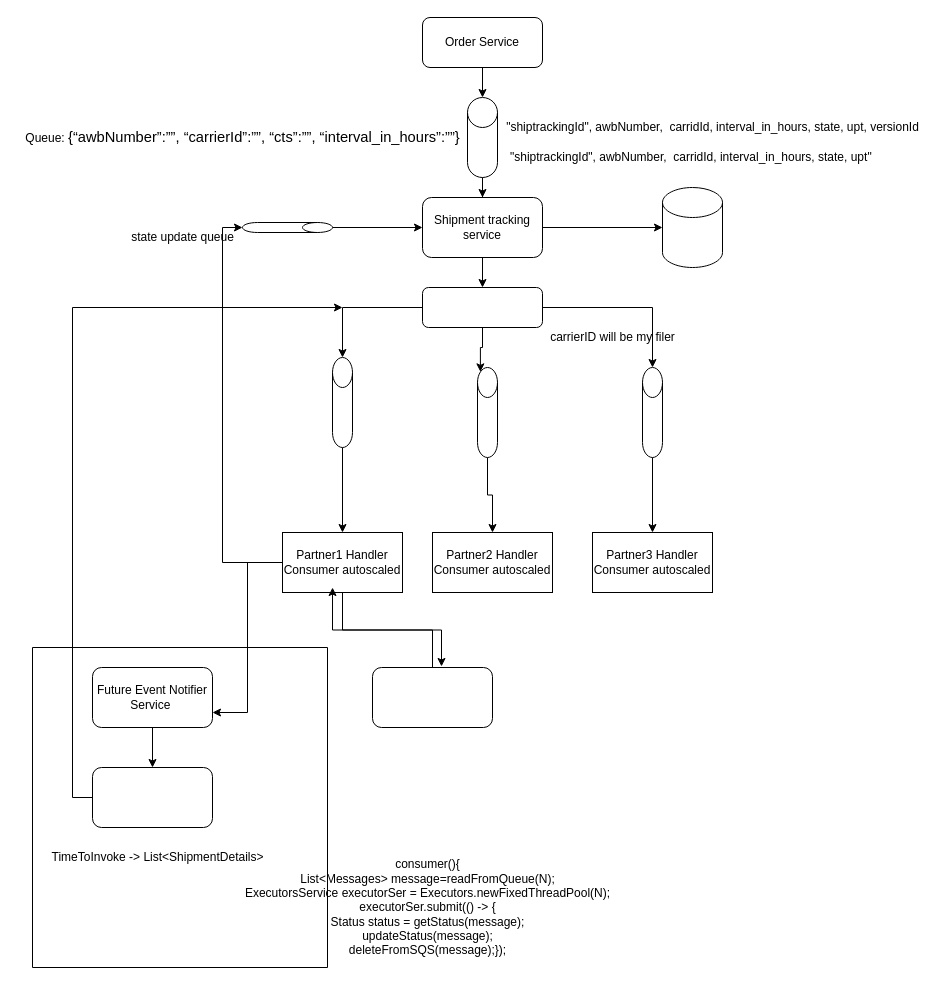
Image size: 944x985. Some labels were removed from this diagram. The box of each missing label's shape, as (x1, y1, x2, y2) in pixels:
3rd party system for status check: (372, 666, 492, 728)
Distributed Scheduler. Service: (92, 766, 212, 828)
NotifyHandlder: SNS: (422, 286, 542, 328)
